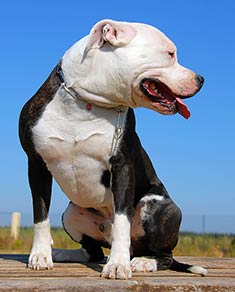am_pit_bull_terrier: (17, 19, 208, 280)
